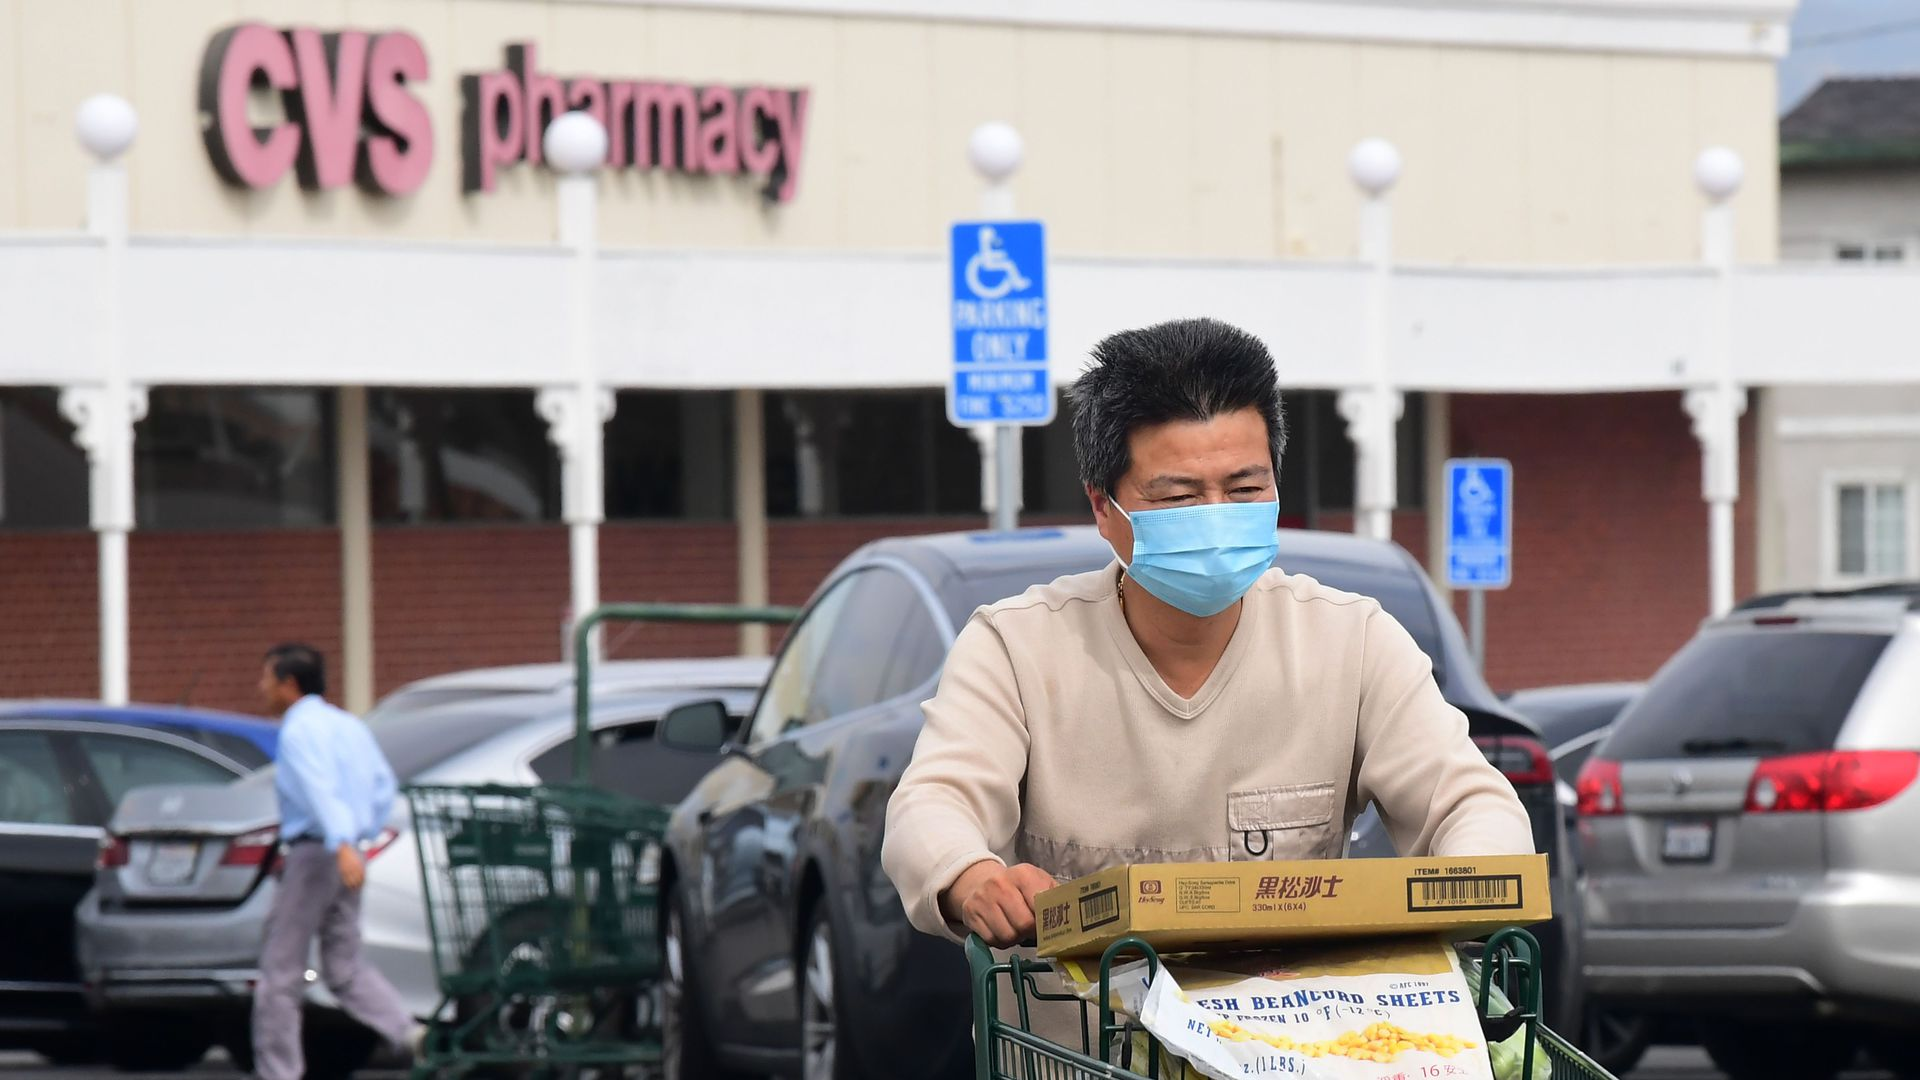surgical: (1083, 501, 1317, 618)
